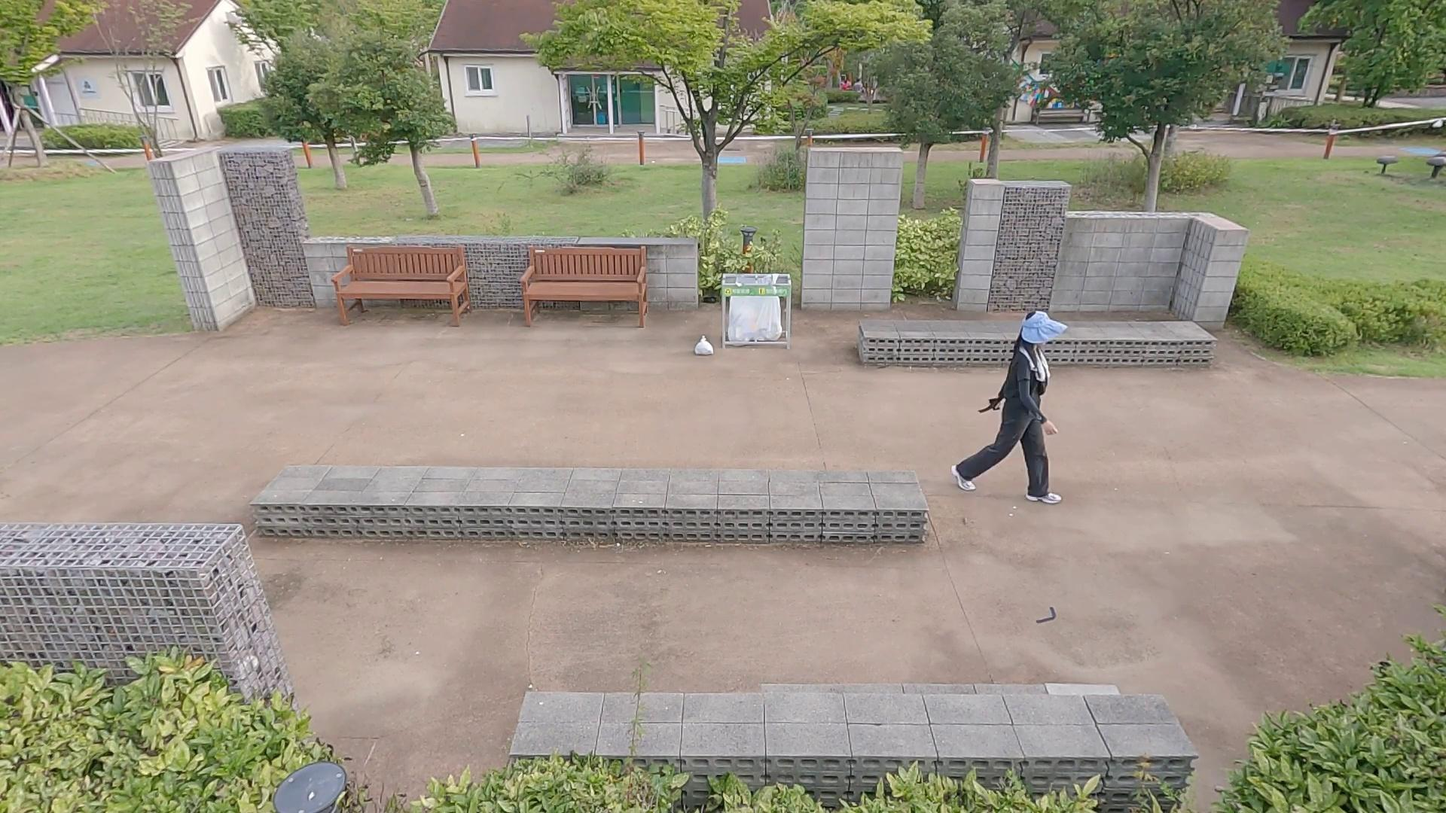person: (950, 308, 1070, 507)
trash: (690, 334, 715, 357)
